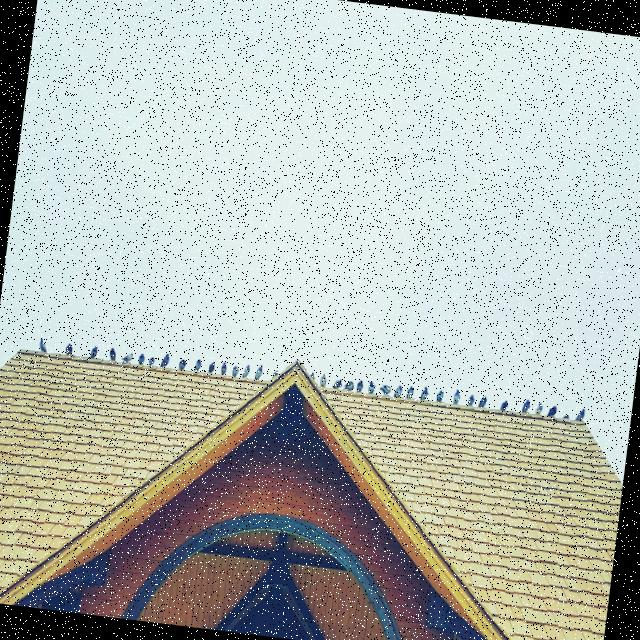bird: (544, 404, 558, 419), (120, 351, 134, 365), (378, 383, 392, 396), (574, 407, 586, 422), (38, 337, 48, 354), (88, 344, 99, 359), (108, 346, 118, 362), (160, 352, 170, 368), (420, 386, 430, 402), (520, 398, 531, 412), (477, 394, 488, 408), (452, 388, 461, 404), (254, 364, 263, 380), (64, 342, 74, 356), (393, 384, 403, 398), (241, 364, 251, 378), (535, 402, 544, 416), (435, 388, 444, 402), (466, 394, 476, 406), (499, 399, 508, 412), (367, 381, 376, 394), (137, 352, 145, 366), (406, 384, 414, 398), (560, 412, 570, 421), (148, 356, 156, 366)
